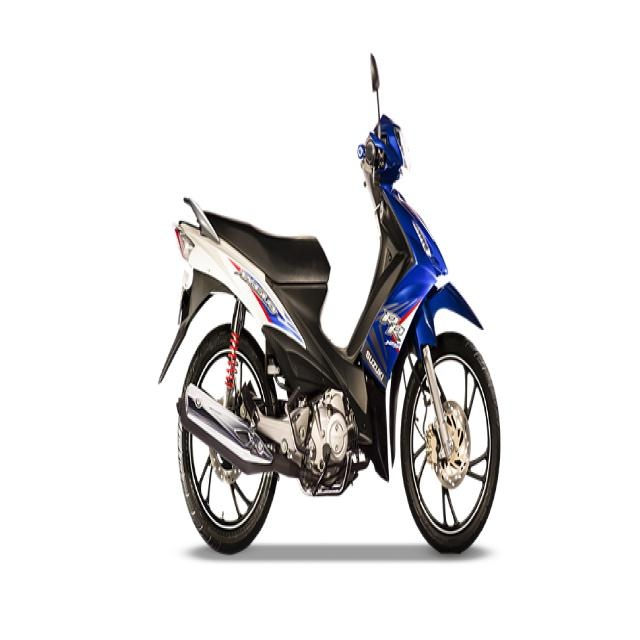Motorcycle: (153, 41, 503, 560)
